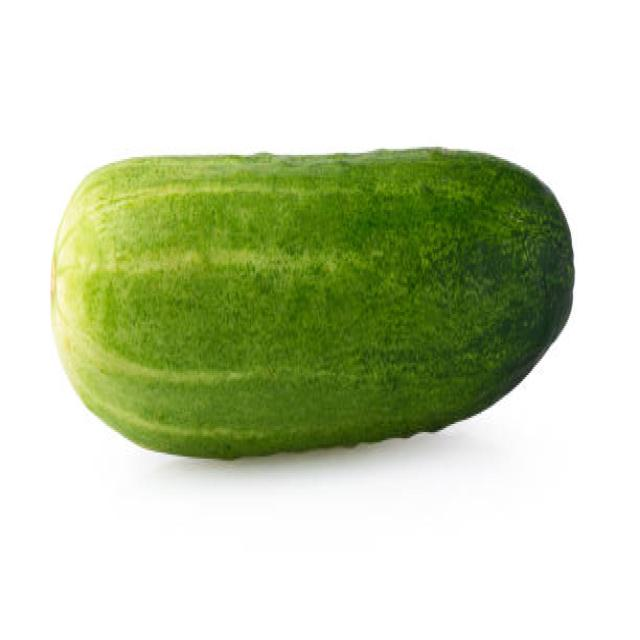cucumber: (50, 146, 574, 462)
